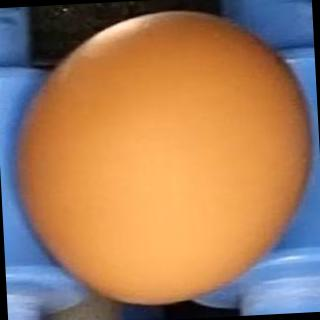Telur: (7, 4, 320, 313)
